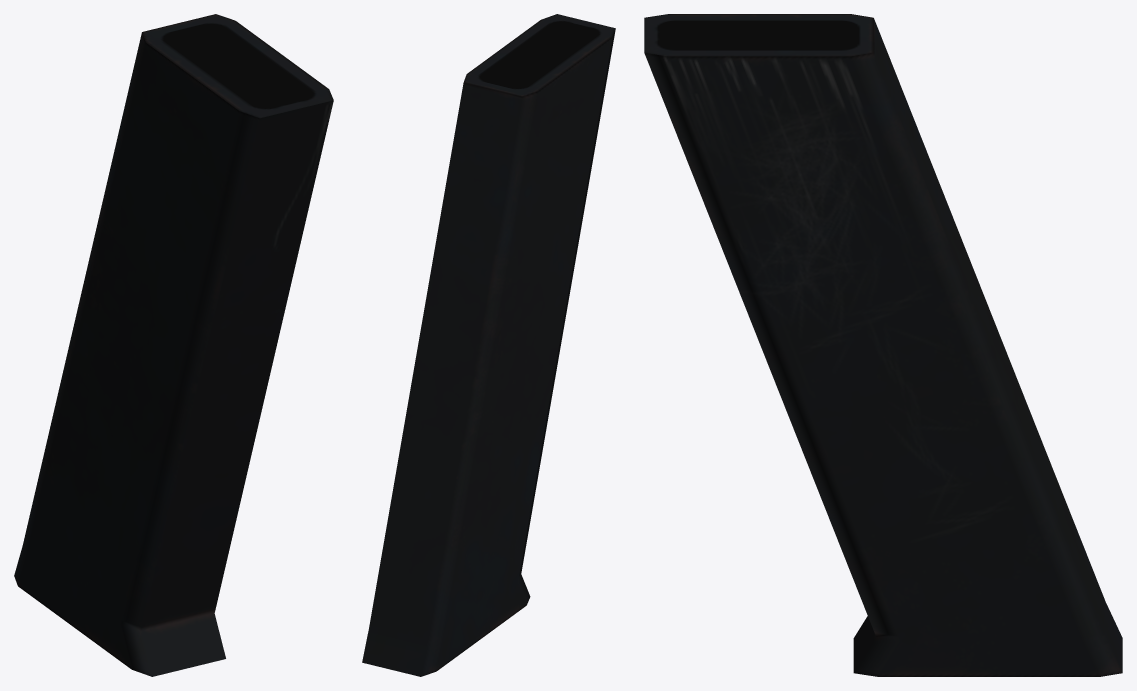
The model's file is Glock-18_Mag.fbx.
The picture shows the model from 3 angles, left to right: view 1: azimuth 30°, elevation 25°; view 2: azimuth 150°, elevation 25°; view 3: azimuth 270°, elevation 25°; orthographic projection. The views are drawn at different scales.
Visible parts, largest first — view 1: Glock-18_Mag; view 2: Glock-18_Mag; view 3: Glock-18_Mag.
Boxes of the visible parts, box(x1,y1,x2,y2) form: Glock-18_Mag: box(14, 14, 333, 676); Glock-18_Mag: box(362, 14, 615, 676); Glock-18_Mag: box(644, 14, 1122, 676).
Size of the model in its own units: 18.91 by 128 by 89.68.
